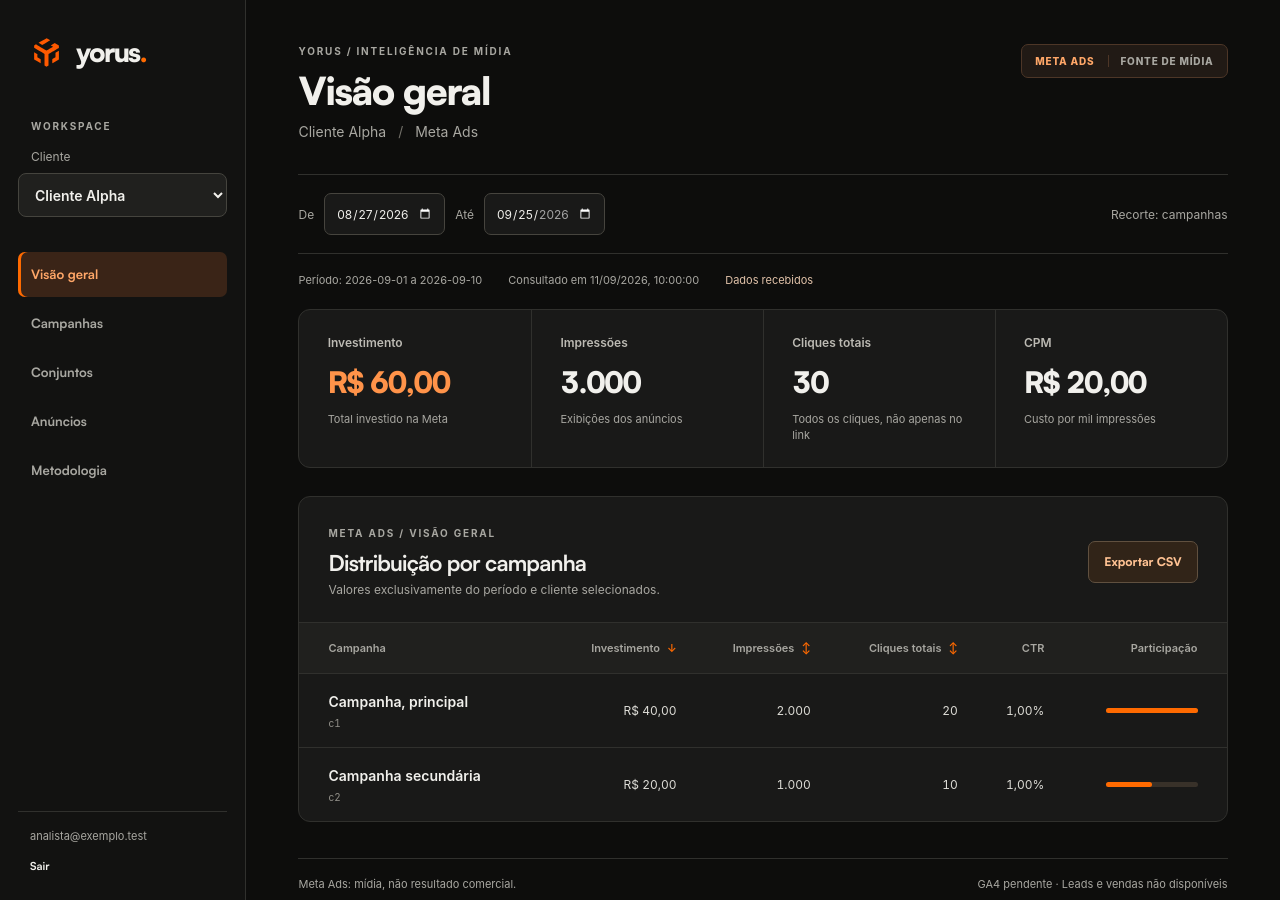
Test case: dashboard UI › posts logout and removes client data from the screen
Check: the text "Campanha, principal" is shown, box [328,693,468,710]
Click the button "Sair". click: (40,866)
box: [30,855,50,878]
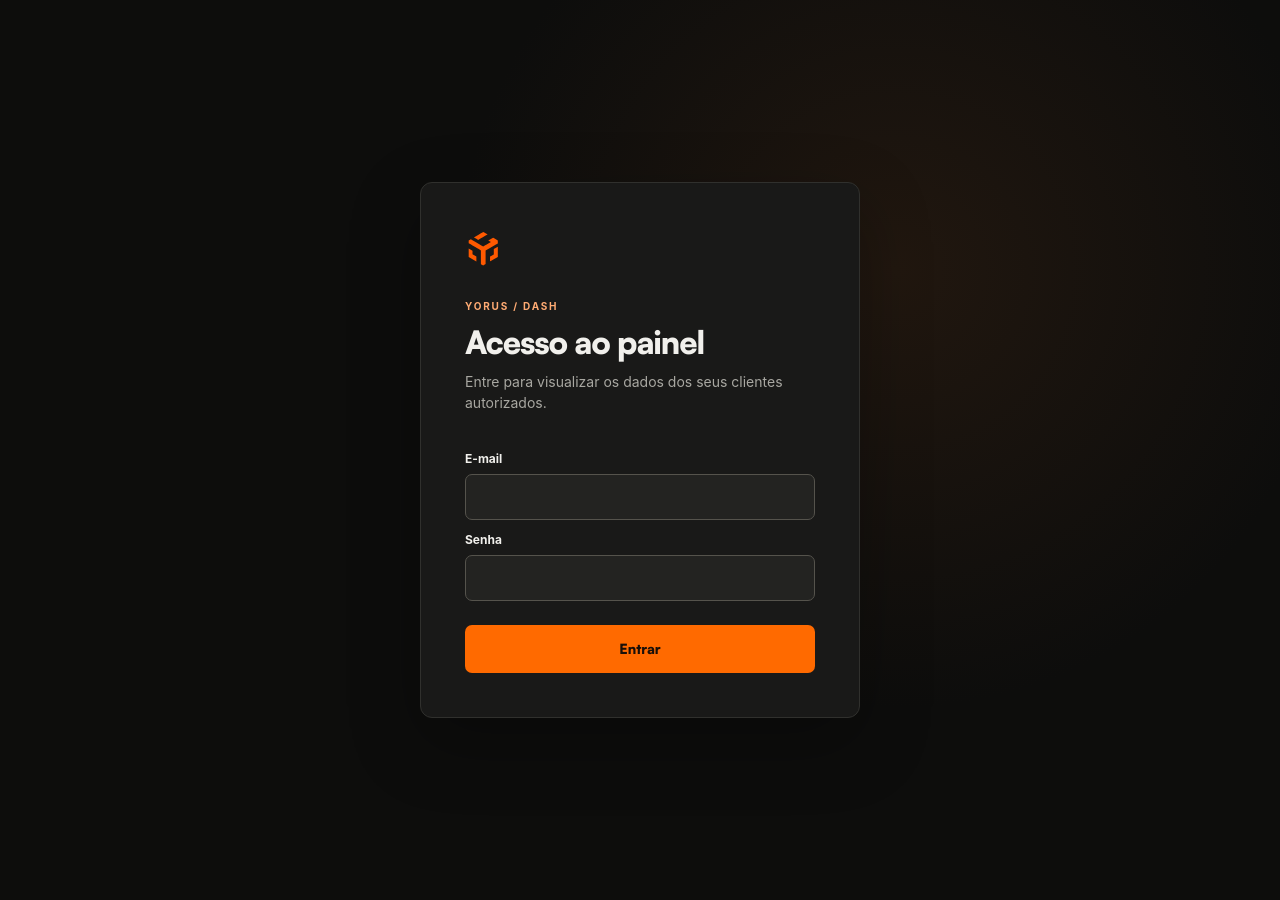
Check: the heading "Acesso ao painel" is shown, box [465,322,704,362]
Check: the text "Campanha, principal" is gone
